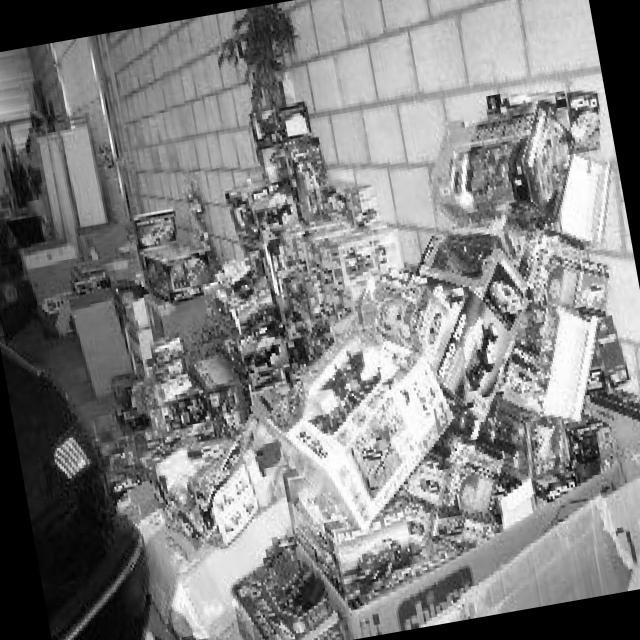box contants: (264, 324, 452, 529), (360, 264, 510, 419), (65, 285, 133, 393), (138, 234, 210, 300)
boxs: (89, 87, 640, 640)
car occluded: (0, 339, 147, 640), (0, 216, 36, 334)
ceiling beam: (0, 47, 27, 123)
floor -X: (0, 208, 640, 640)
wall clock: (15, 0, 640, 495), (0, 119, 26, 214)
